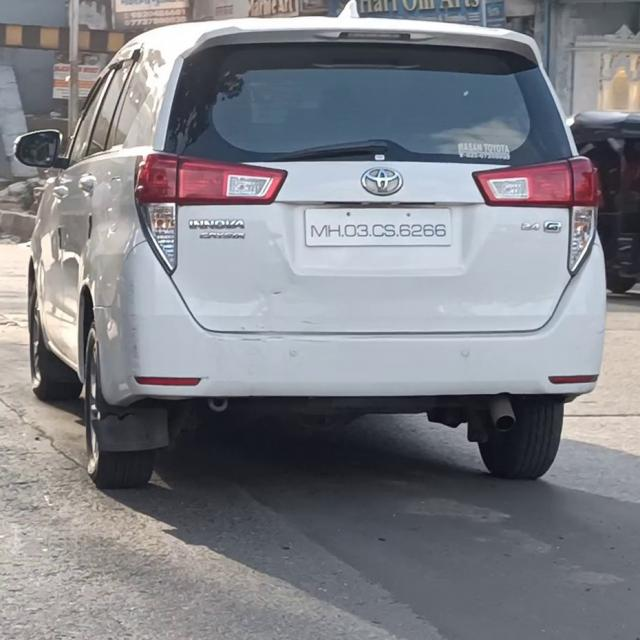Plate: (303, 207, 456, 248)
